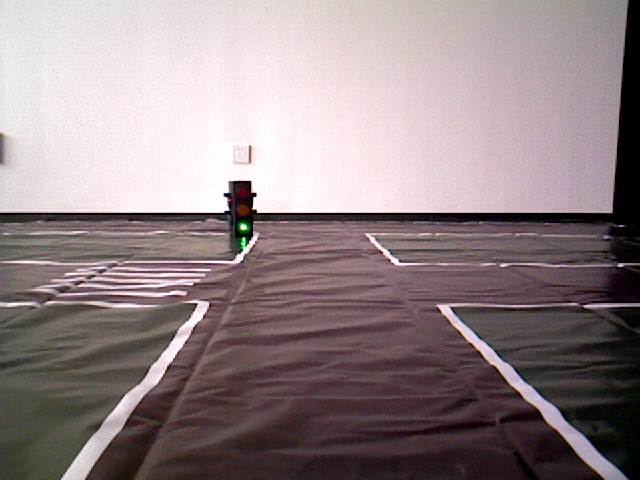green: (231, 185, 254, 234)
